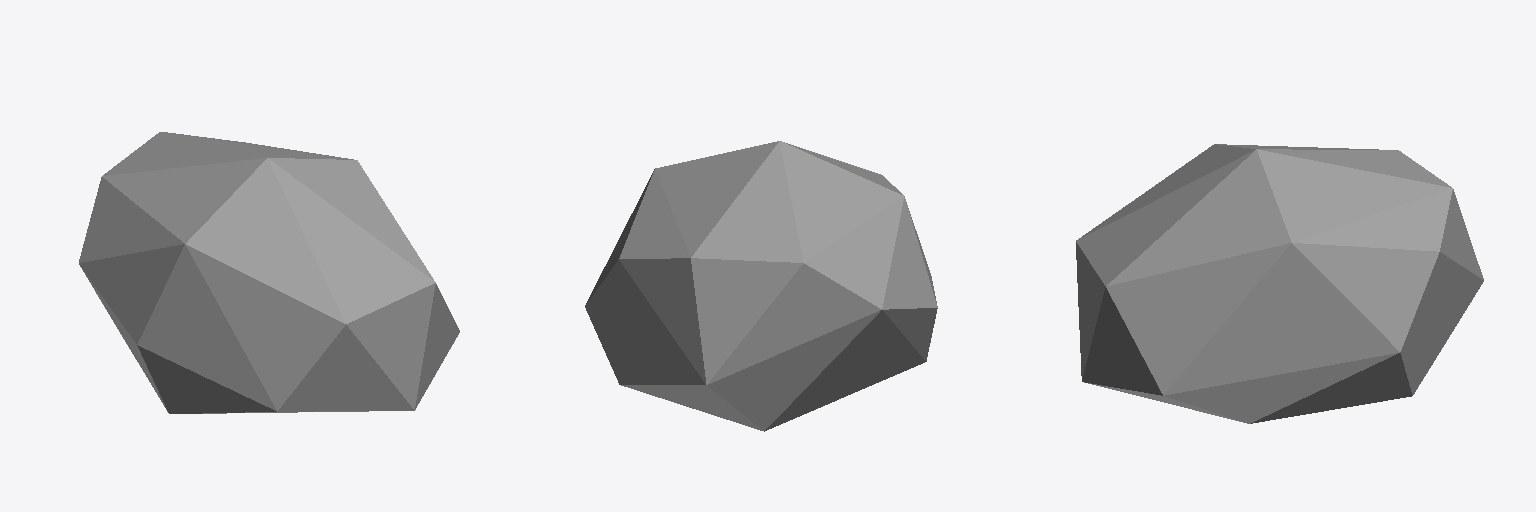
File: Rock1.obj
3 views of the same model, side by side, from view 1: azimuth 30°, elevation 25°; view 2: azimuth 150°, elevation 25°; view 3: azimuth 270°, elevation 25° (orthographic).
Visible parts, largest first — view 1: Icosphere_Icosphere.001; view 2: Icosphere_Icosphere.001; view 3: Icosphere_Icosphere.001.
Boxes of the visible parts, x1=… form: Icosphere_Icosphere.001: x1=79, y1=132, x2=459, y2=413; Icosphere_Icosphere.001: x1=585, y1=141, x2=937, y2=431; Icosphere_Icosphere.001: x1=1076, y1=144, x2=1483, y2=423.
Bounding box in the file's own units: 2.14 × 1.5 × 2.6.